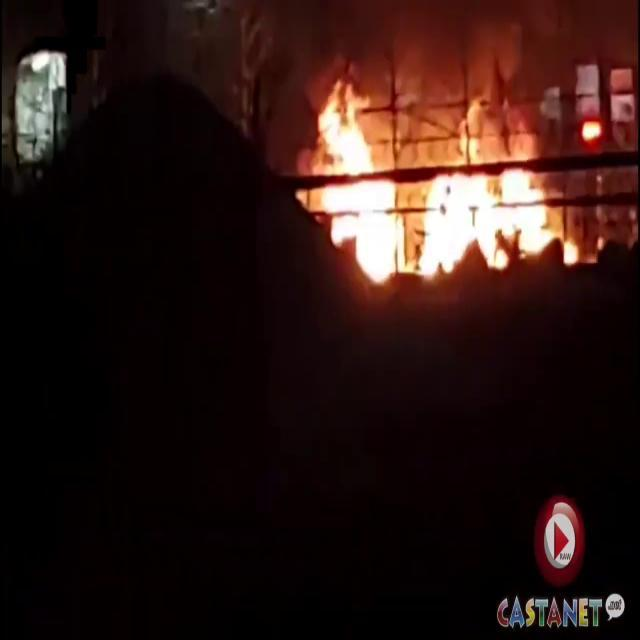Fire: (302, 84, 580, 290)
